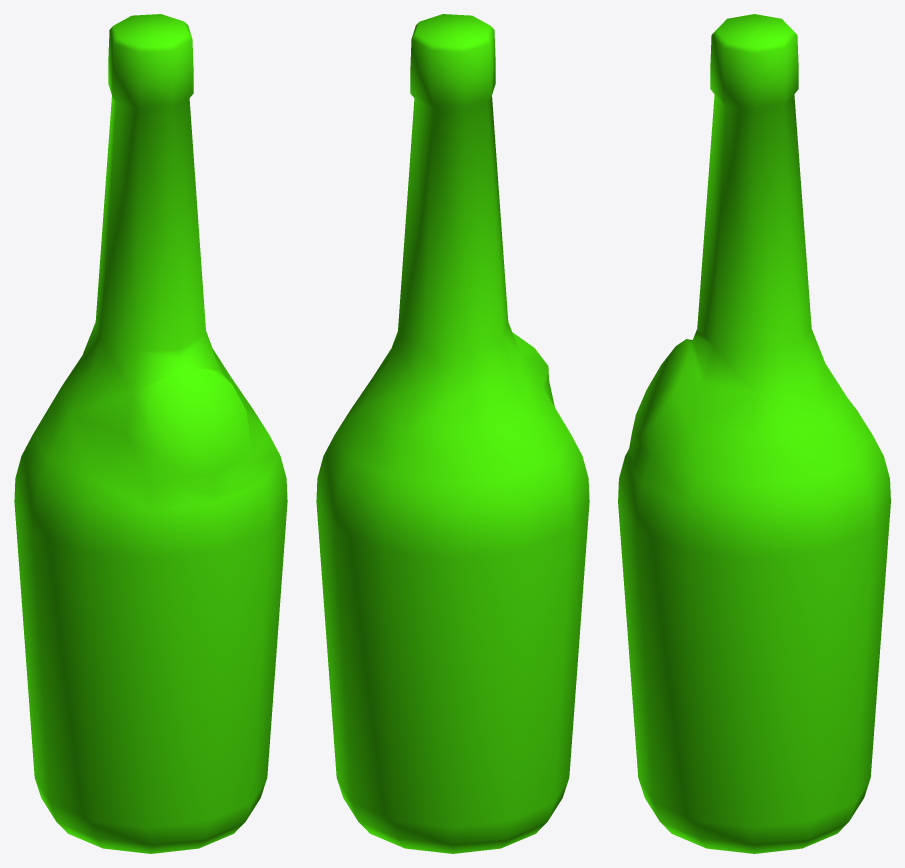
Rendered from 20_cognac.gltf.
3 renders of one model, left to right at view 1: azimuth 30°, elevation 25°; view 2: azimuth 150°, elevation 25°; view 3: azimuth 270°, elevation 25°, orthographic.
Visible parts, largest first — view 1: Martel_Atlas_0; view 2: Martel_Atlas_0; view 3: Martel_Atlas_0.
Part boxes in pixels (x1,y1,x2,y2): Martel_Atlas_0: (14,14,287,853); Martel_Atlas_0: (316,14,589,853); Martel_Atlas_0: (618,14,890,853).
Bounding box in the file's own units: 8.9 × 28.19 × 8.9.
1 material, 1 textured.
